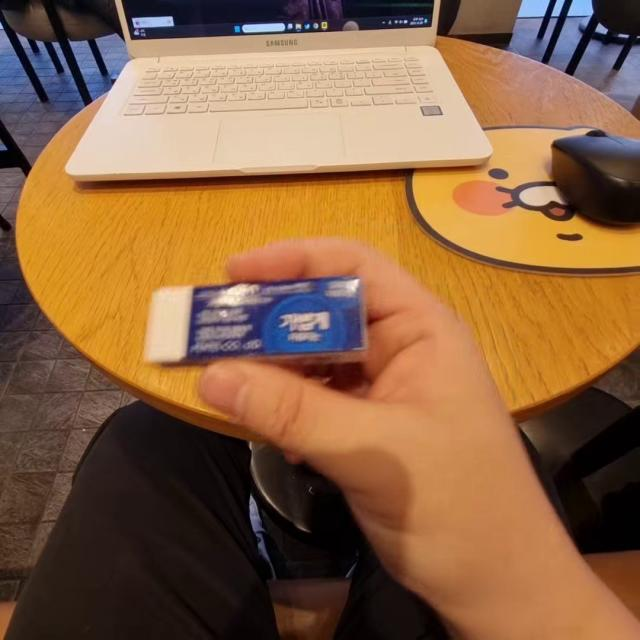eraser: (134, 276, 386, 366)
grab_eraser: (147, 230, 551, 612)
mouse: (554, 117, 640, 242)
